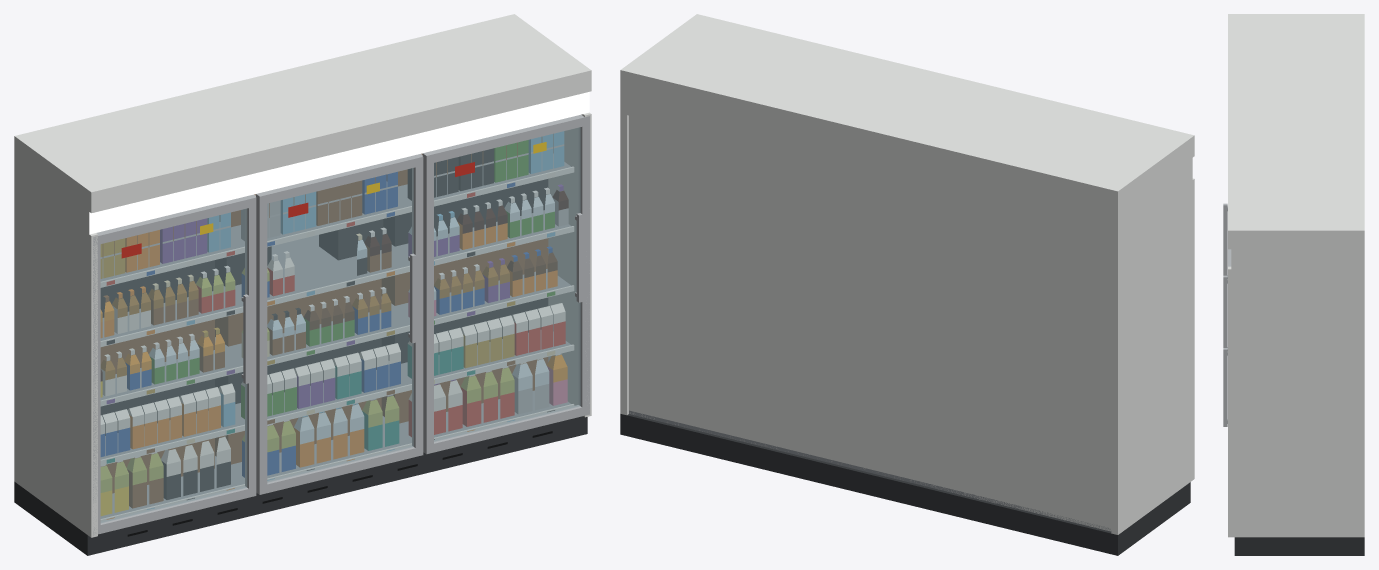
Rendered from conbini_drink_fridge.glb.
The picture shows the model from 3 angles, left to right: view 1: azimuth 30°, elevation 25°; view 2: azimuth 150°, elevation 25°; view 3: azimuth 270°, elevation 25°; orthographic projection. The views are drawn at different scales.
Parts seen in each view (by area): view 1: drink_fridge, door_glass, doors; view 2: drink_fridge; view 3: drink_fridge, doors.
Part boxes in pixels (bbox=[...]): drink_fridge: bbox=[14, 14, 591, 555]; door_glass: bbox=[100, 127, 580, 522]; doors: bbox=[93, 114, 589, 535]; drink_fridge: bbox=[620, 14, 1194, 555]; drink_fridge: bbox=[1228, 14, 1364, 555]; doors: bbox=[1223, 203, 1231, 426].
Size of the model in its own units: 3 by 2.1 by 0.8275.
